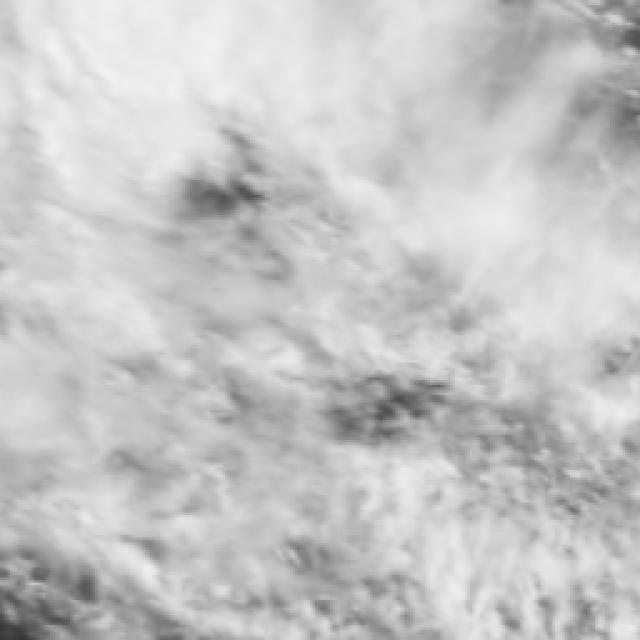CB: (69, 11, 378, 97)
